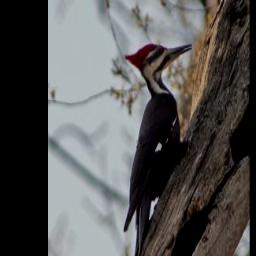Woodpecker: (122, 43, 195, 256)
